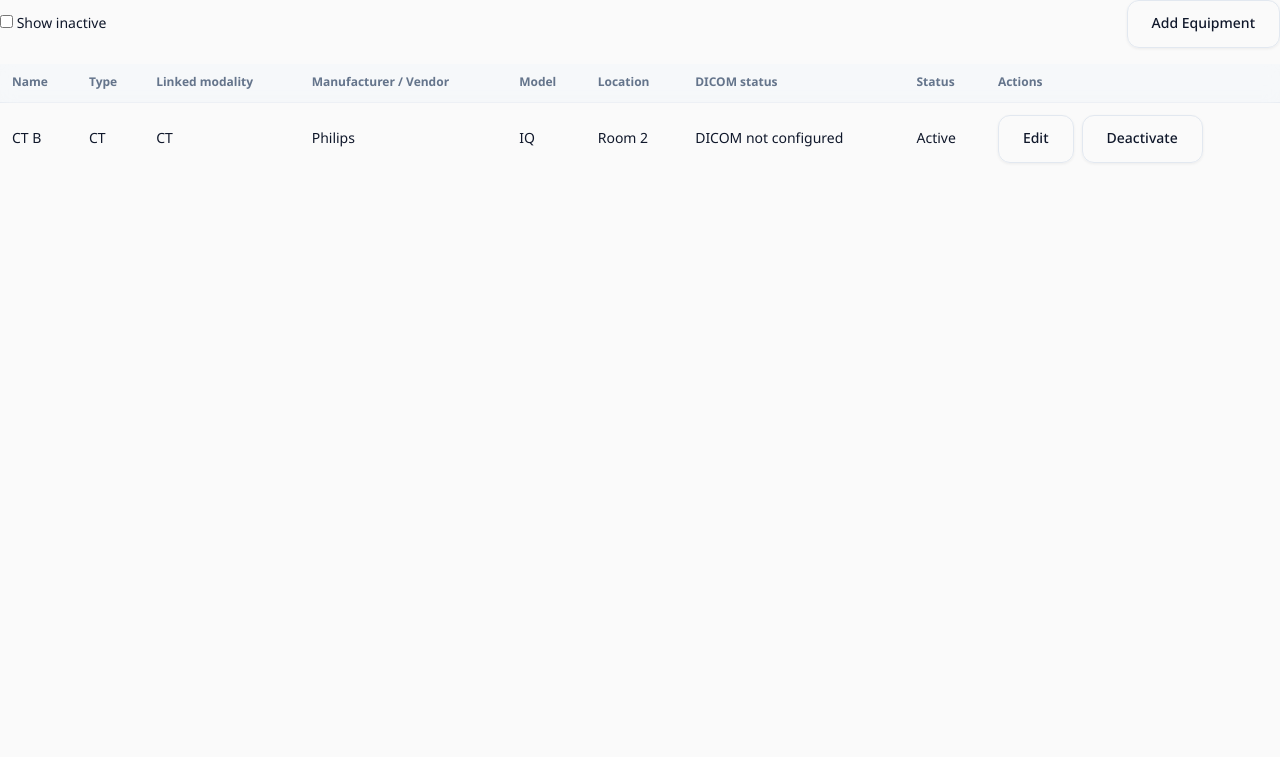
Test case: EquipmentSection › requires a linked modality and defaults a new device name from Equipment
The width and height of the screenshot is (1280, 757).
Click the button "Edit". click: x=1036, y=139
box: [998,115,1074,163]
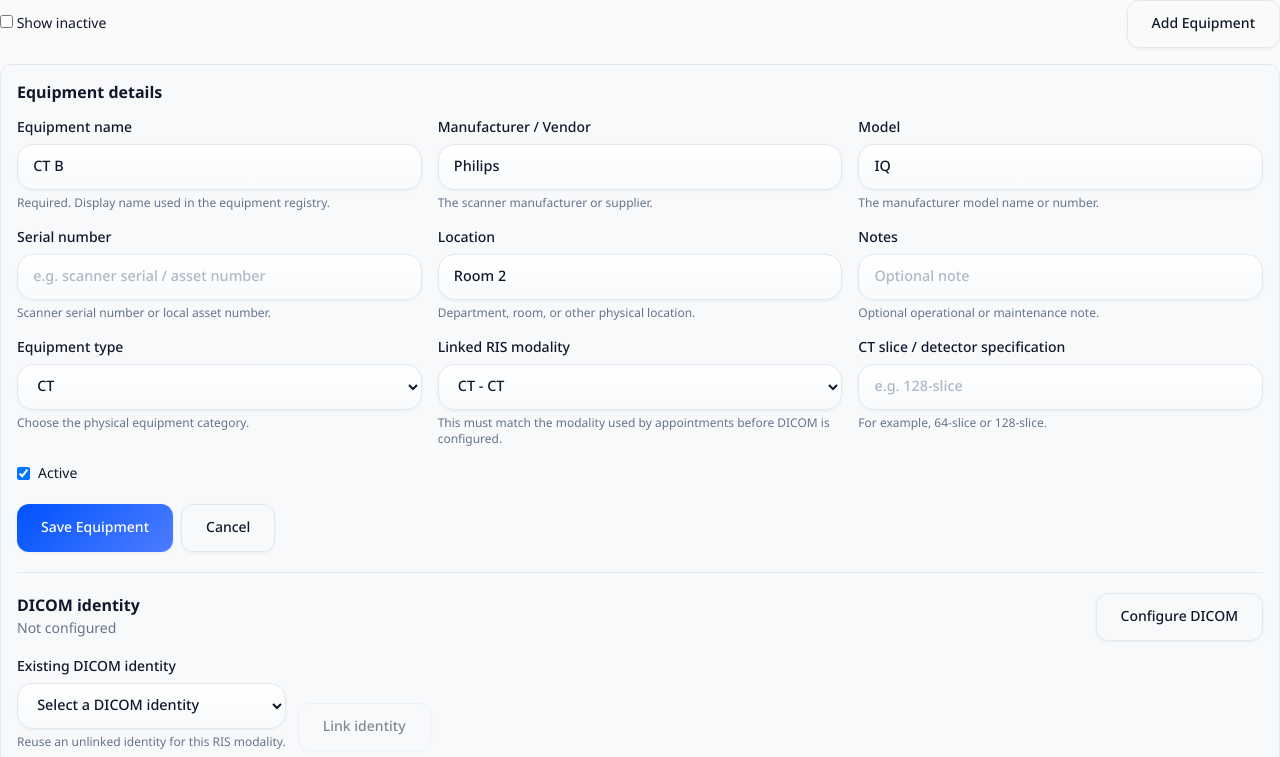
Click the button "Configure DICOM". click: x=1179, y=617
box: [1096,593,1263,641]
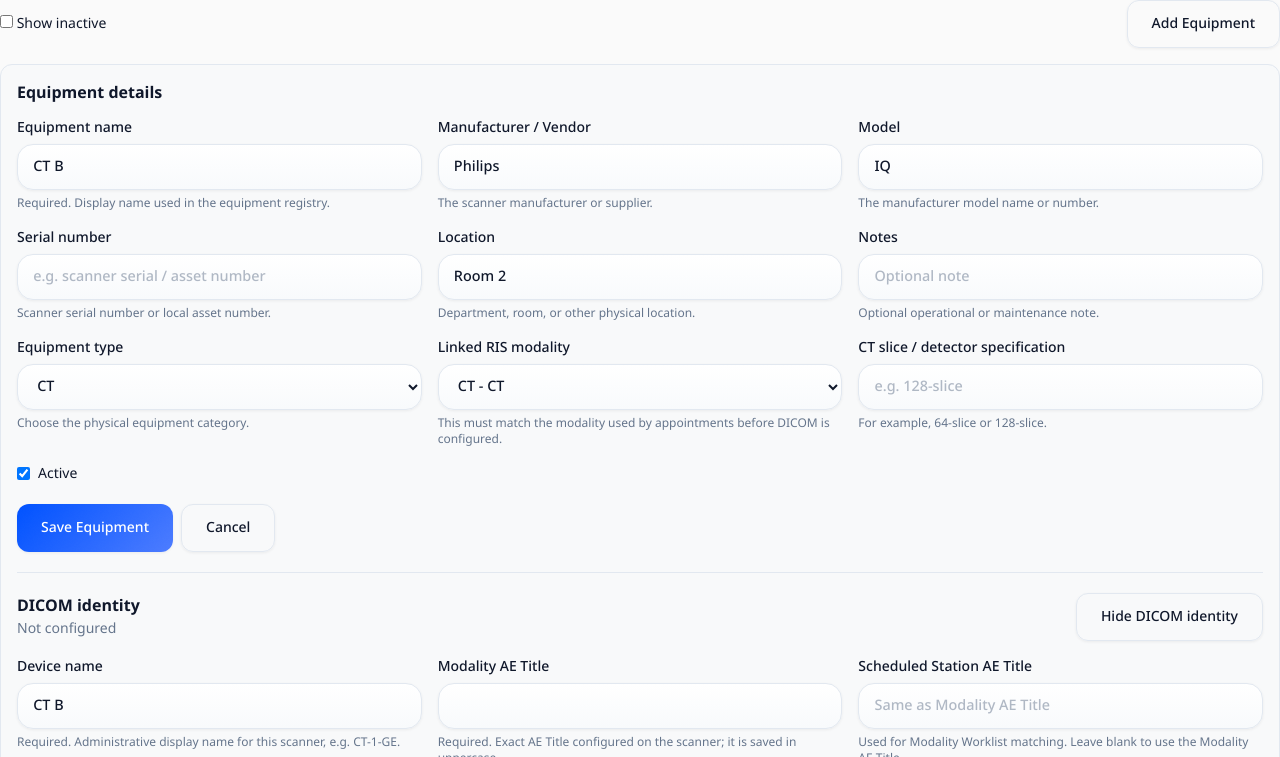
Now the field labelled "Device name" holds "CT B", box [17,683,422,729]
Select "No linked modality" in the dropdown labelled "Linked RIS modality". click: x=640, y=387
box: [438,364,842,410]
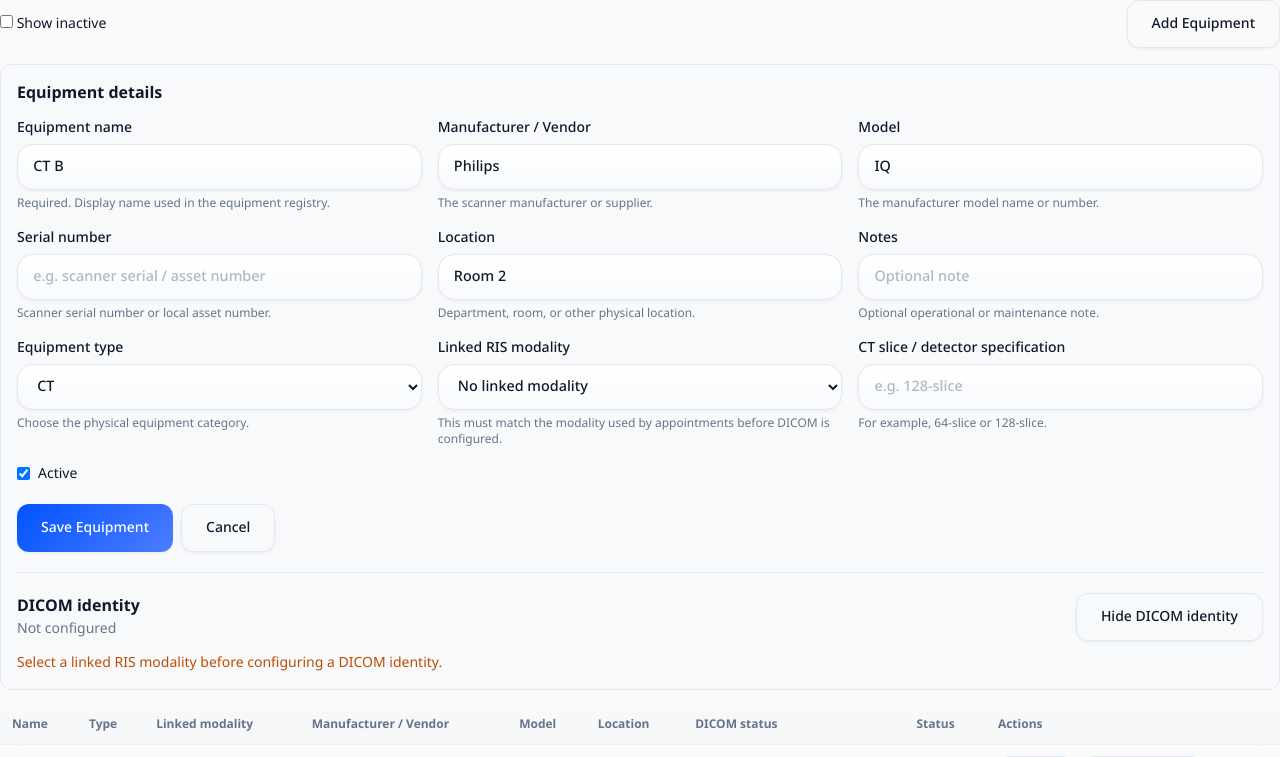
Now the text "Select a linked RIS modality before configuring a DICOM identity." is shown, box [17,648,442,677]
